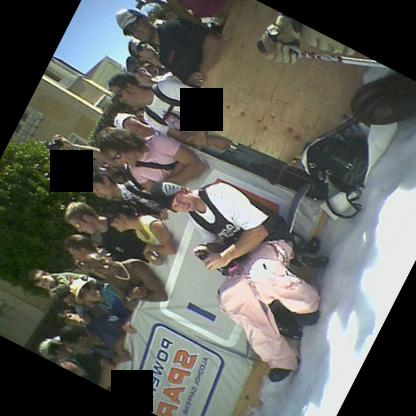backpack: (303, 132, 368, 193), (144, 81, 194, 126)
